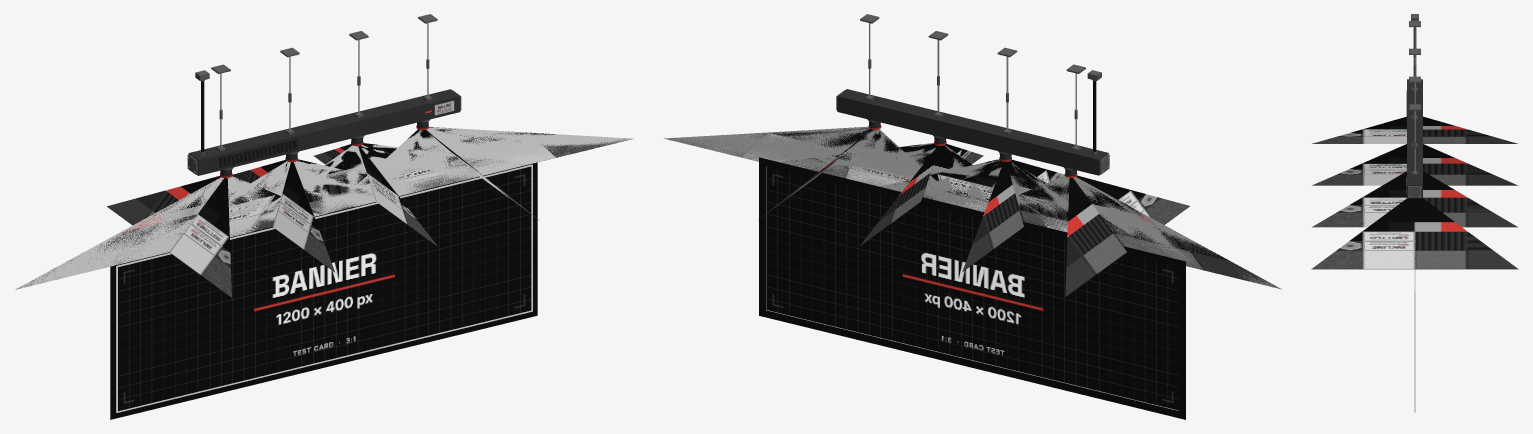
The model's file is display_banner.glb.
The picture shows the model from 3 angles, left to right: view 1: azimuth 30°, elevation 25°; view 2: azimuth 150°, elevation 25°; view 3: azimuth 270°, elevation 25°; orthographic projection. The views are drawn at different scales.
Visible parts, largest first — view 1: screen_banner, beam, farBody, body, glow; view 2: screen_banner, beam, farBody, body, glow; view 3: beam, farBody, body, glow.
Part boxes in pixels (x1,y1,x2,y2): screen_banner: (118,166,531,411); beam: (16,127,633,419); farBody: (15,89,632,289); body: (187,14,461,178); glow: (116,110,532,412); screen_banner: (766,166,1178,410); beam: (666,127,1279,419); farBody: (663,89,1281,289); body: (836,14,1109,177); glow: (766,166,1178,410); beam: (1311,116,1518,269); farBody: (1407,79,1422,198); body: (1406,14,1422,198); glow: (1414,269,1415,412).
Size of the model in its own units: 9 by 4.5 by 3.15.
Materials: 5 (5 with a texture image).
